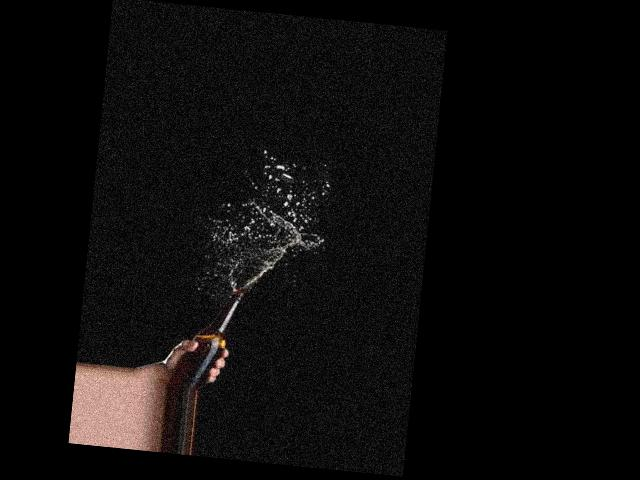beer: (164, 285, 245, 396)
